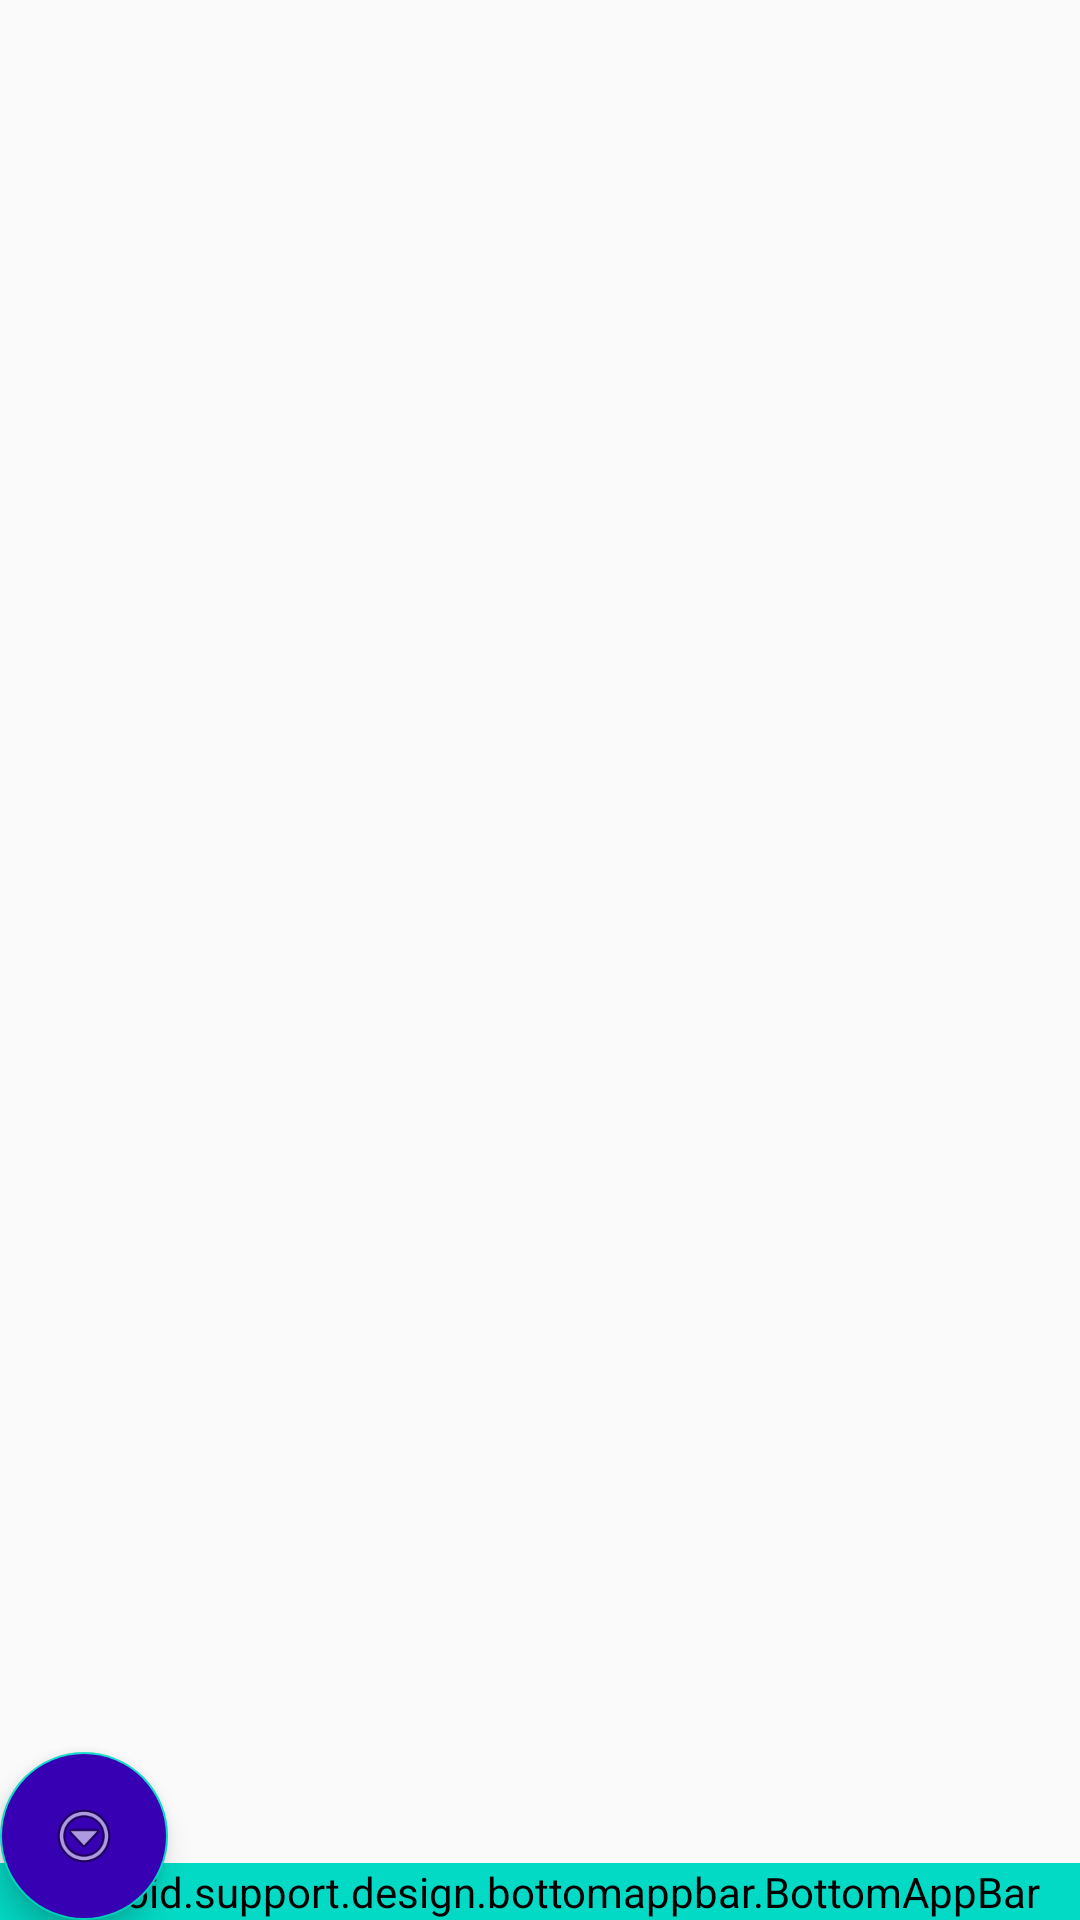

Icon bounding boxes for this 1080x1920 phone screenshot, format box=[x1, y1, x2, y2]:
more: box=[0, 1752, 168, 1920]
